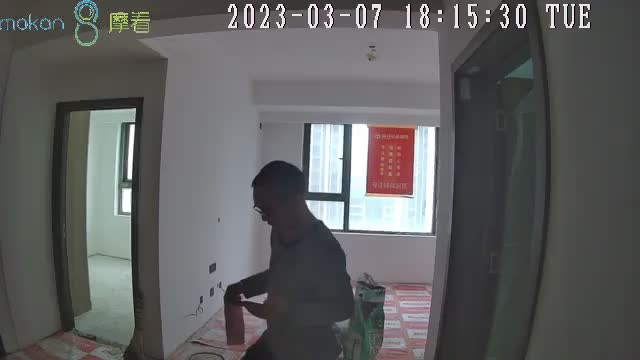people: (226, 160, 357, 360)
window: (303, 124, 436, 234)
